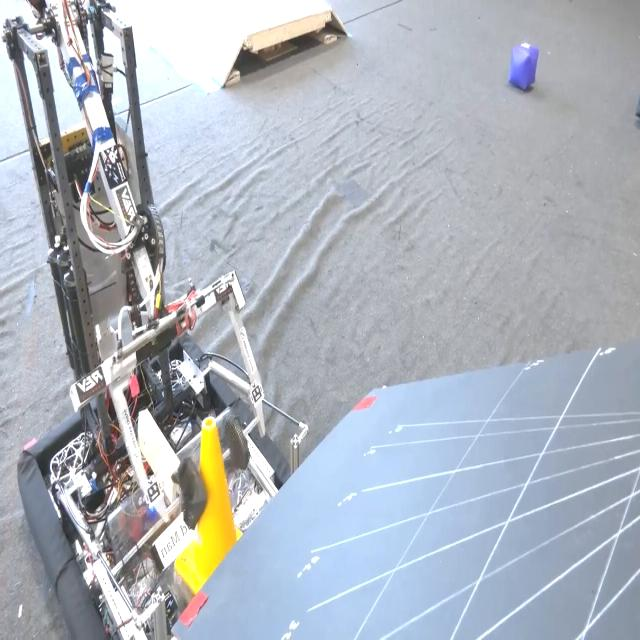frc_cone: (185, 422, 237, 596)
frc_cube: (511, 43, 537, 88)
